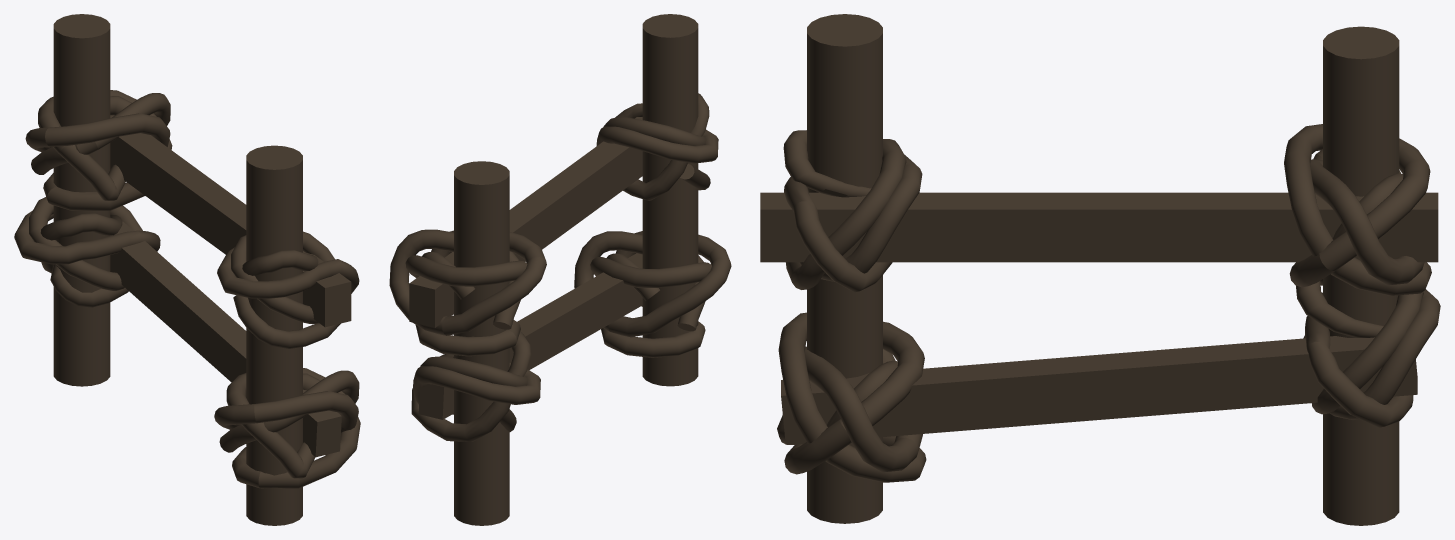
File: WoodFence2_Low.fbx
The picture shows the model from 3 angles, left to right: view 1: azimuth 30°, elevation 25°; view 2: azimuth 150°, elevation 25°; view 3: azimuth 270°, elevation 25°; orthographic projection. The views are drawn at different scales.
Visible parts, largest first — view 1: Wood1_Low, Wood2_Low, Rope3_Low, Wood3_Low, Wood4_Low, Rope2_Low, Rope1_Low, Rope4_Low; view 2: Wood1_Low, Wood2_Low, Rope2_Low, Rope3_Low, Wood3_Low, Wood4_Low, Rope4_Low, Rope1_Low; view 3: Wood3_Low, Wood4_Low, Wood1_Low, Wood2_Low, Rope3_Low, Rope2_Low, Rope1_Low, Rope4_Low.
Boxes of the visible parts, <box> form: Wood1_Low: <box>246,145,302,525</box>; Wood2_Low: <box>53,14,110,386</box>; Rope3_Low: <box>214,368,360,488</box>; Wood3_Low: <box>110,115,351,327</box>; Wood4_Low: <box>110,221,341,457</box>; Rope2_Low: <box>25,90,172,210</box>; Rope1_Low: <box>217,231,359,348</box>; Rope4_Low: <box>14,197,160,307</box>; Wood1_Low: <box>642,14,698,386</box>; Wood2_Low: <box>454,161,509,525</box>; Rope2_Low: <box>389,229,546,356</box>; Rope3_Low: <box>574,231,731,357</box>; Wood3_Low: <box>409,117,642,327</box>; Wood4_Low: <box>418,253,642,419</box>; Rope4_Low: <box>411,331,540,441</box>; Rope1_Low: <box>596,93,718,200</box>; Wood3_Low: <box>760,192,1438,262</box>; Wood4_Low: <box>781,336,1417,444</box>; Wood1_Low: <box>807,14,882,523</box>; Wood2_Low: <box>1323,26,1399,525</box>; Rope3_Low: <box>777,312,926,482</box>; Rope2_Low: <box>1284,124,1431,295</box>; Rope1_Low: <box>783,130,922,292</box>; Rope4_Low: <box>1296,279,1440,427</box>.
Size of the model in its own units: 146 by 332 by 427.
